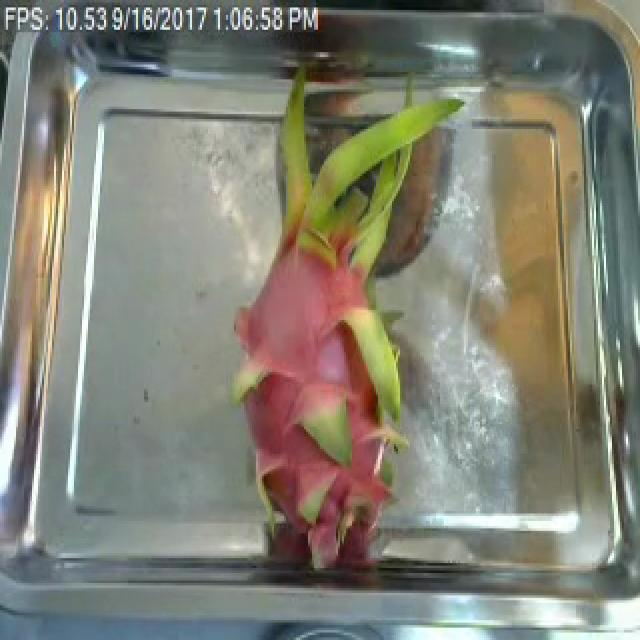fruit: (214, 161, 452, 578)
